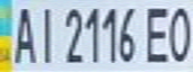1: (81, 1, 103, 64), (100, 2, 121, 63)
2: (60, 1, 84, 64)
6: (115, 1, 142, 64)
A: (6, 1, 39, 64)
E: (142, 1, 175, 64)
I: (33, 1, 60, 64)
O: (163, 2, 193, 63)
